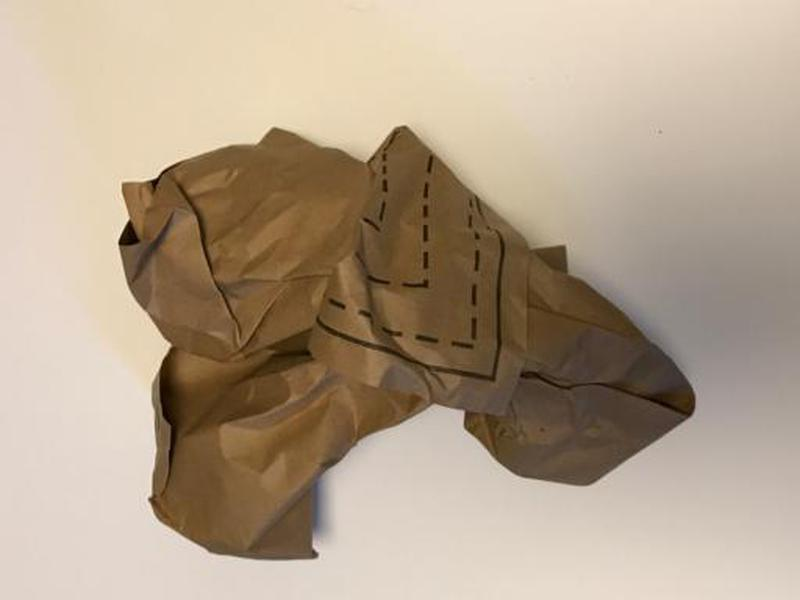paper: (109, 121, 699, 564)
